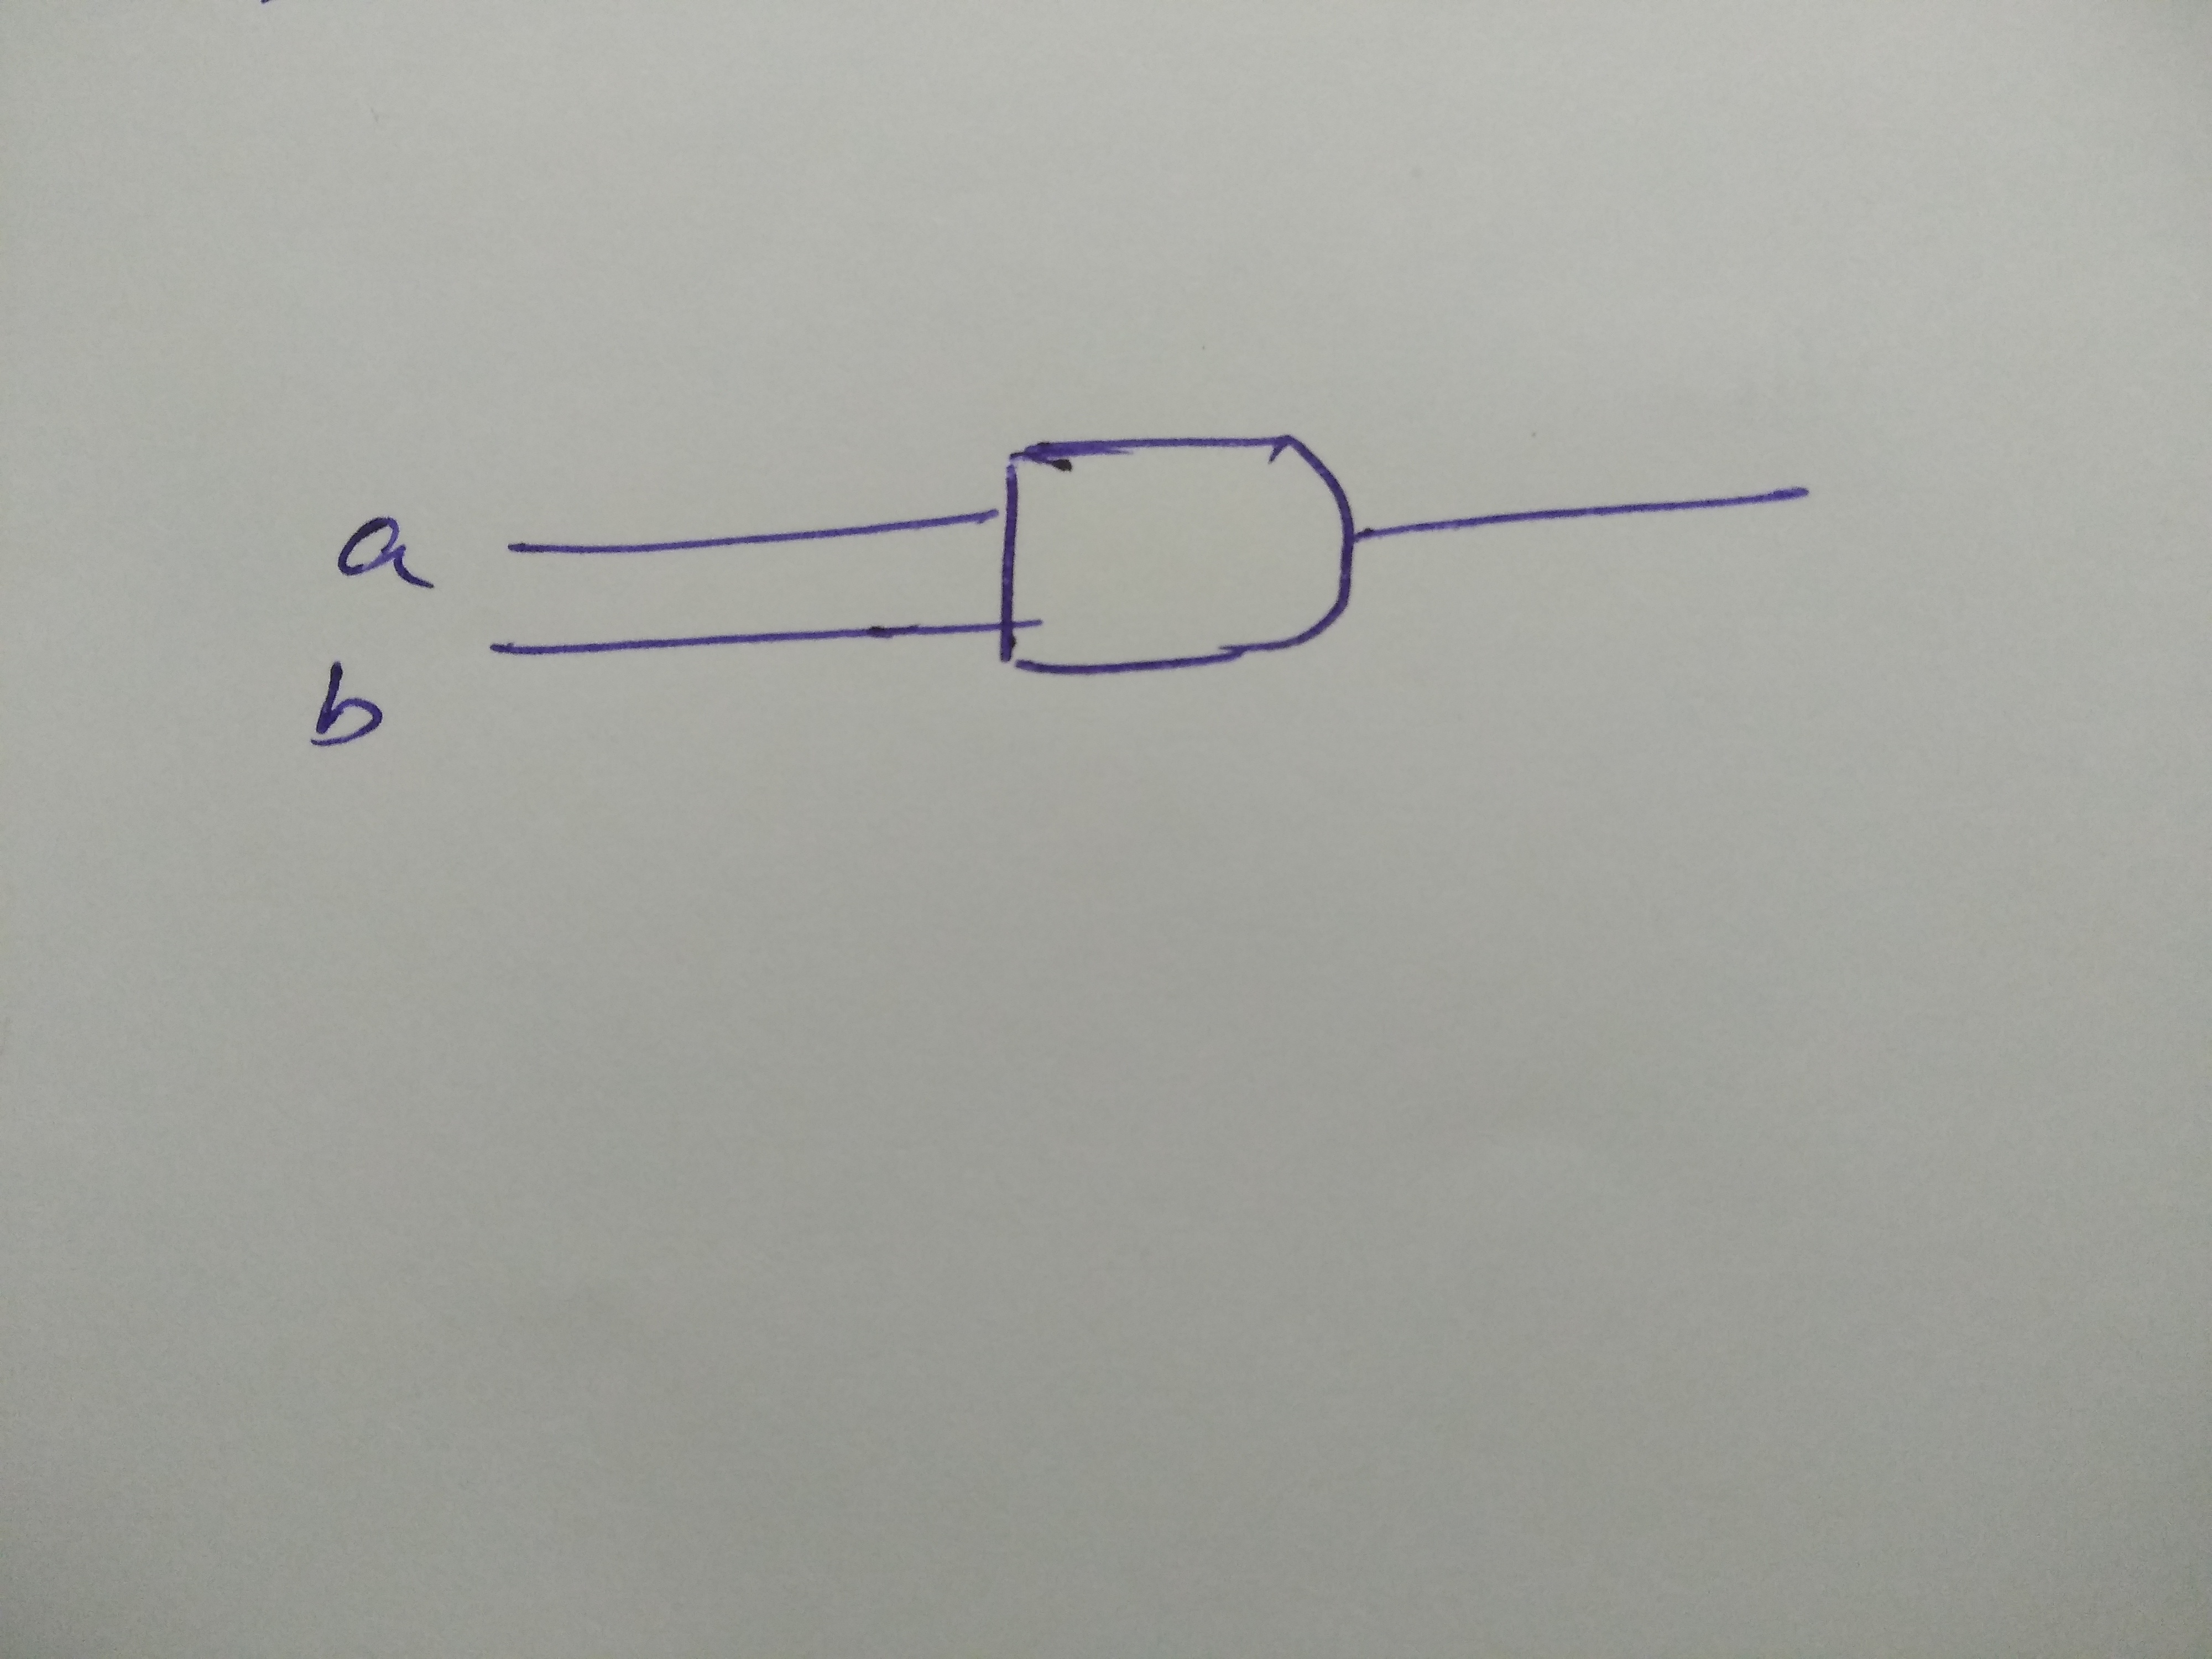and: (928, 390, 1404, 744)
